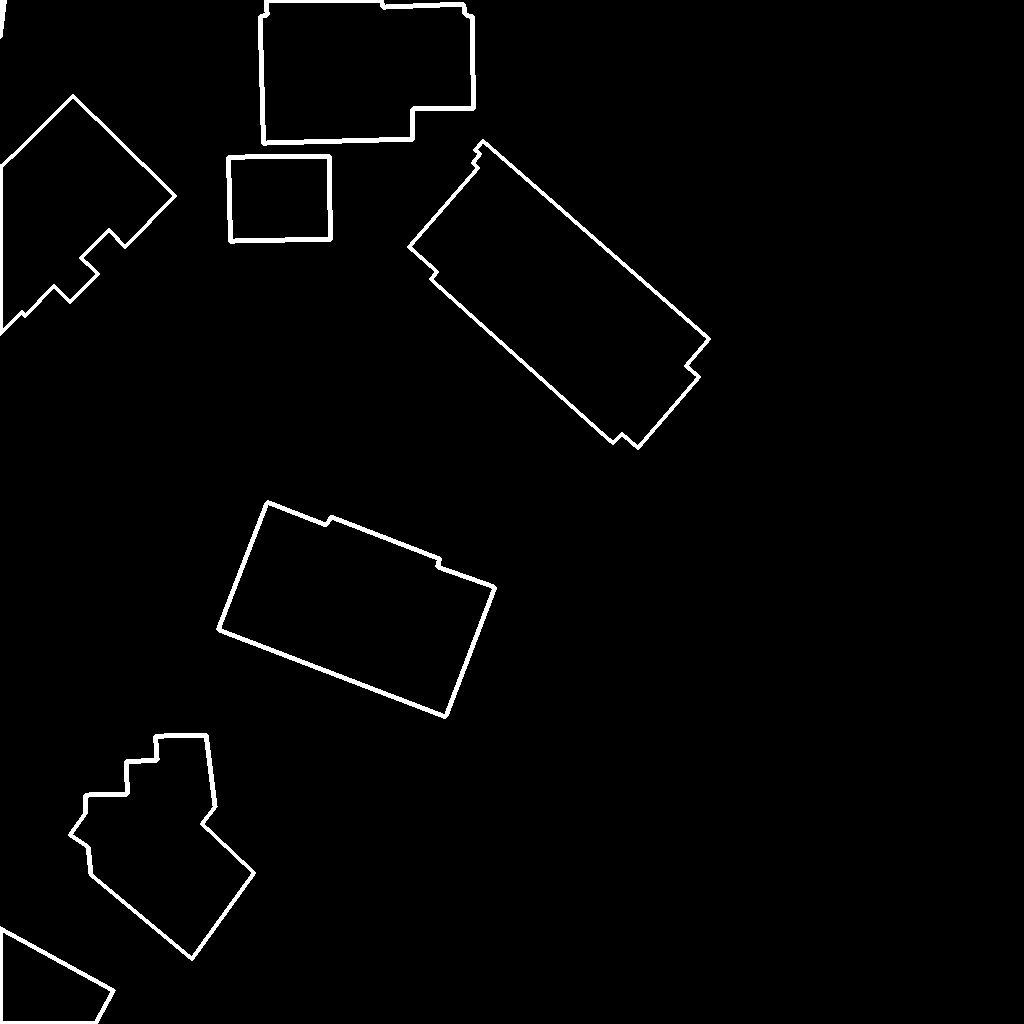building: (409, 141, 710, 449), (218, 502, 496, 718), (0, 96, 176, 335), (70, 735, 255, 960), (260, 0, 475, 144), (0, 928, 115, 1024), (228, 156, 332, 242), (0, 0, 6, 42), (907, 1021, 912, 1024)
